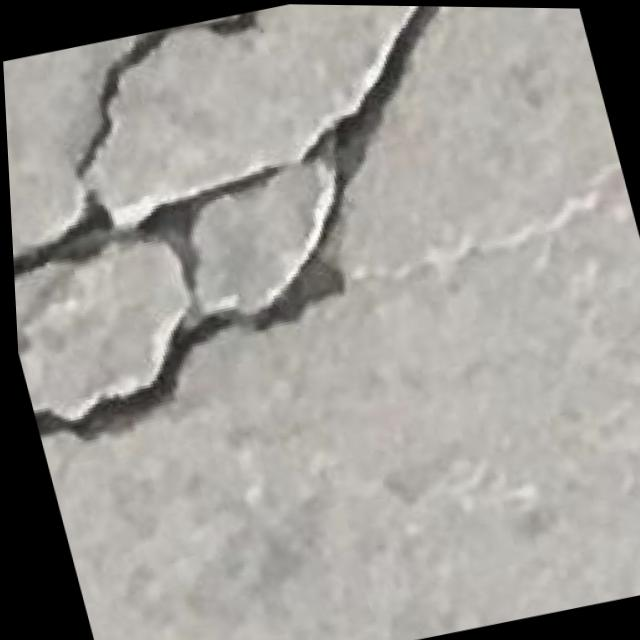Crack: (0, 0, 559, 463)
